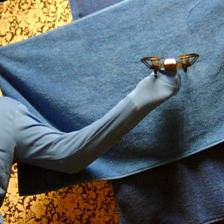drone: (141, 53, 201, 79)
